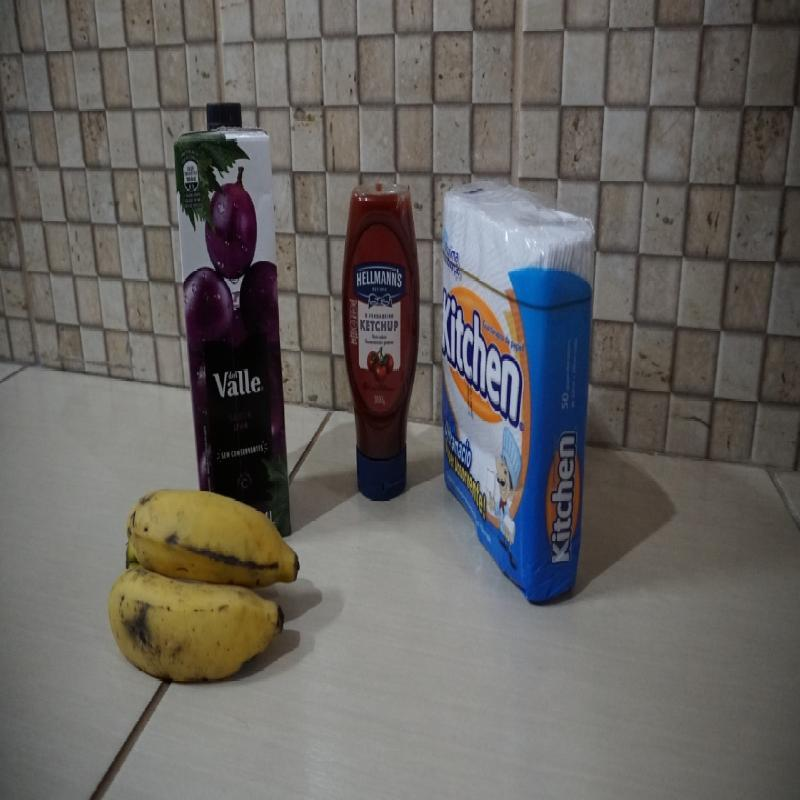Banana: (108, 487, 303, 686)
Ketchup: (341, 186, 420, 503)
Napkin: (440, 177, 596, 608)
